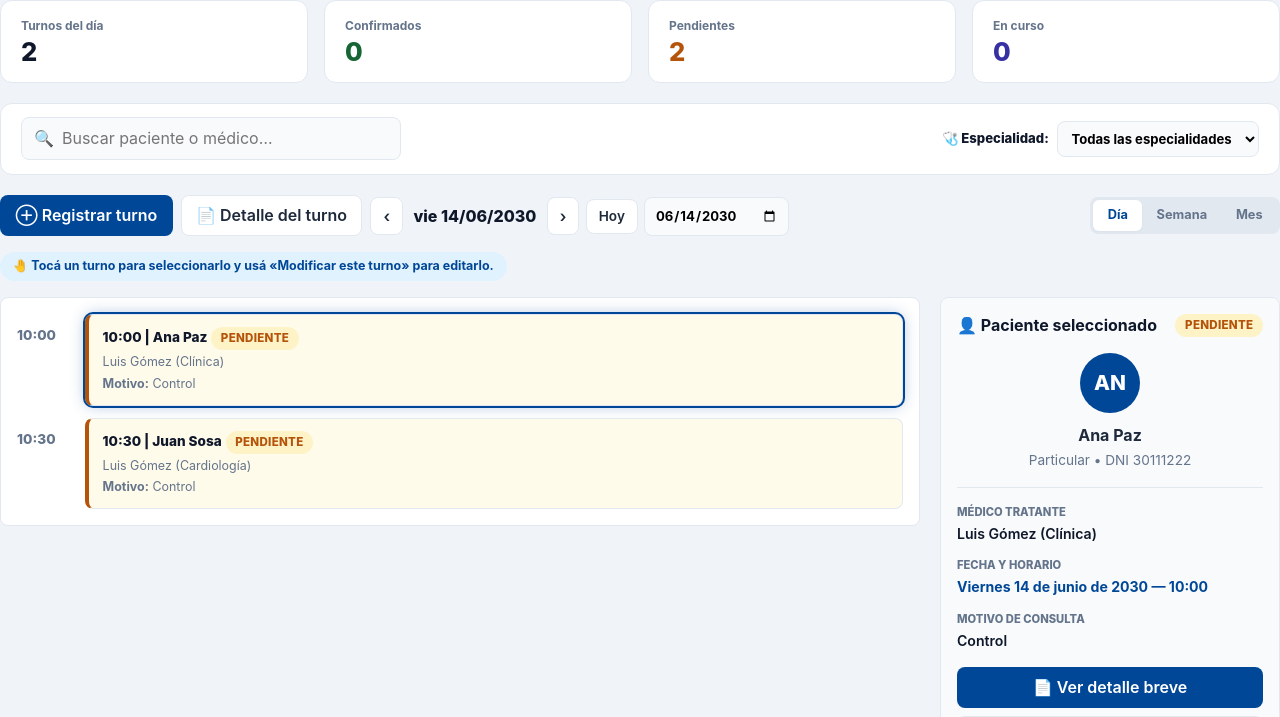
Scenario: Vista Día › el buscador y la especialidad filtran la línea de tiempo
This screenshot has width=1280, height=717.
Expected: the button "Ana Paz" is shown, [85,314,903,406]
Type "SOSA" into the search field named "Buscar paciente o médico".
click(225, 139); type("SOSA")  # box [62,123,388,154]
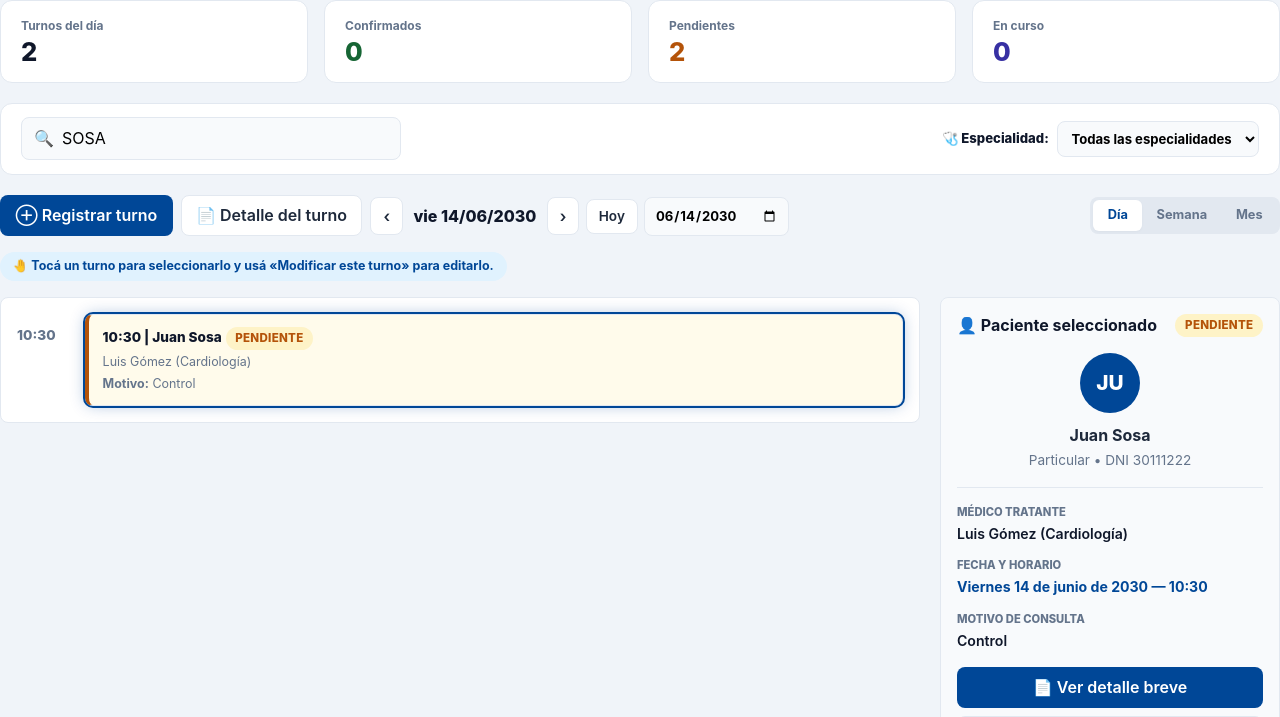
Expected: the button "Juan Sosa" is shown, [85,314,903,406]
Result: the button "Ana Paz" is gone
Clear the search field named "Buscar paciente o médico" at {"x": 225, "y": 139}, box [62,123,388,154]
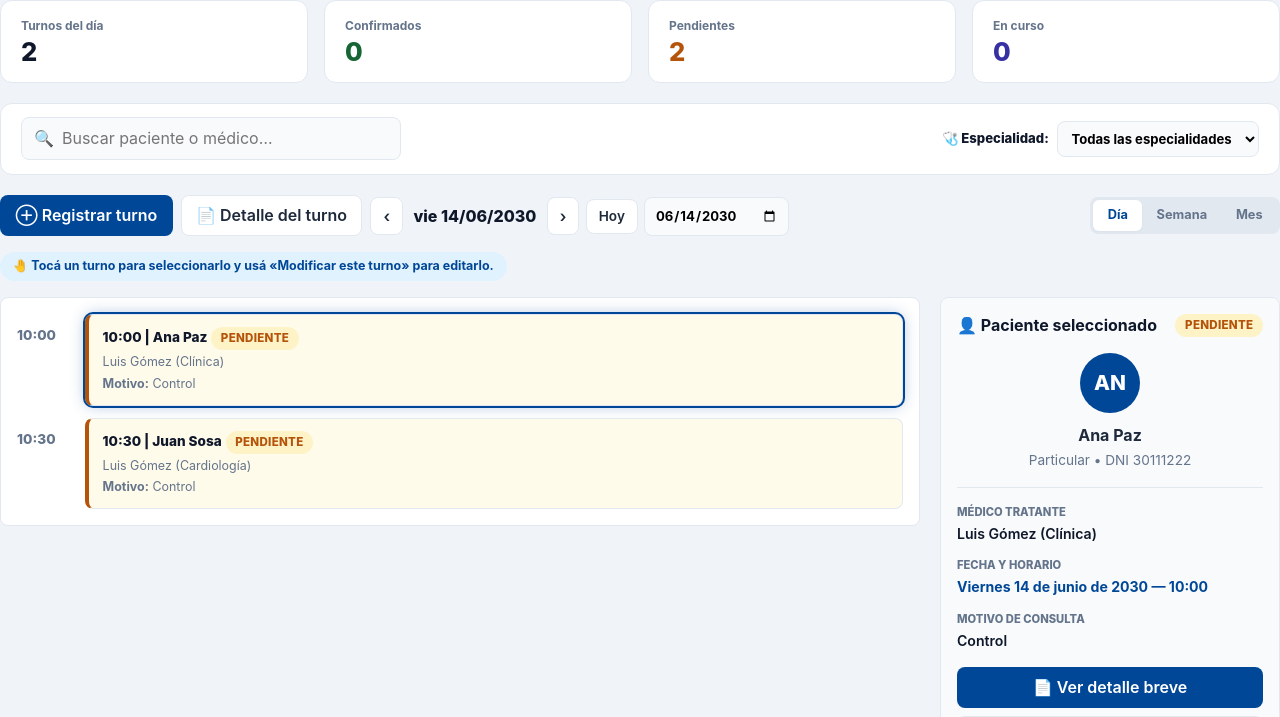
Select "Clínica" in the dropdown at {"x": 1158, "y": 139}, box [1057,121,1259,157]
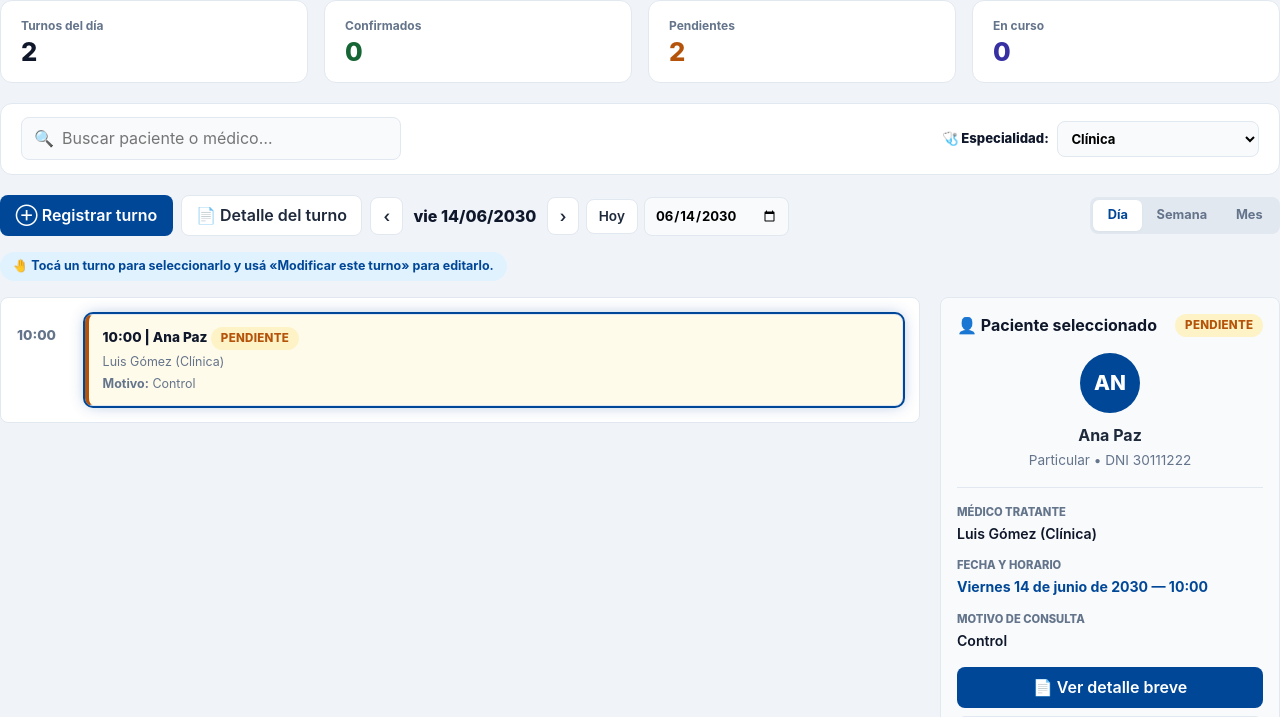
Result: the button "Juan Sosa" is gone
